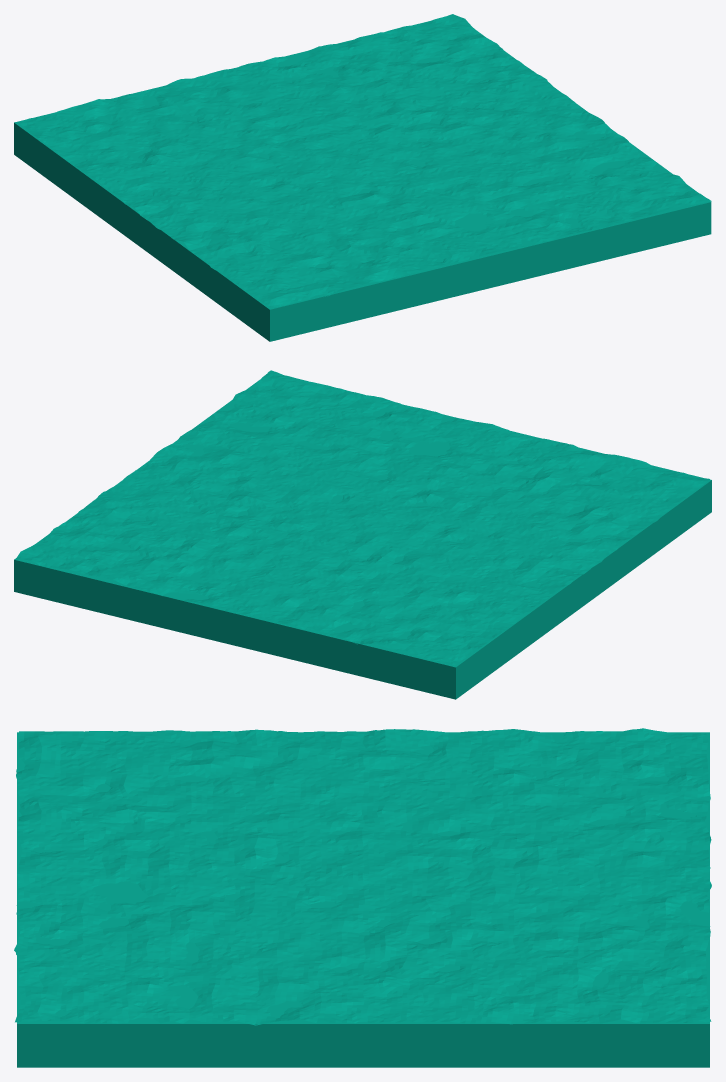
The model's file is sea.dae.
The picture shows the model from 3 angles, top to bottom: view 1: azimuth 30°, elevation 25°; view 2: azimuth 150°, elevation 25°; view 3: azimuth 270°, elevation 25°; orthographic projection. The views are drawn at different scales.
Parts seen in each view (by area): view 1: Plane_002, Cube; view 2: Plane_002, Cube; view 3: Plane_002, Cube.
Part boxes in pixels (bbox=[...]): Plane_002: bbox=[18, 14, 711, 307]; Cube: bbox=[14, 22, 711, 341]; Plane_002: bbox=[15, 370, 709, 665]; Cube: bbox=[14, 380, 711, 699]; Plane_002: bbox=[14, 728, 711, 1025]; Cube: bbox=[17, 732, 709, 1067].
Bounding box in the file's own units: 16.5 × 16.56 × 1.27.
